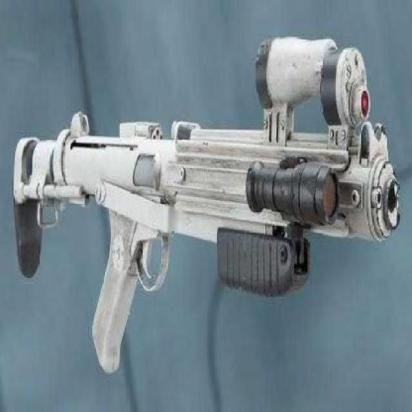Gun: (11, 31, 407, 366)
